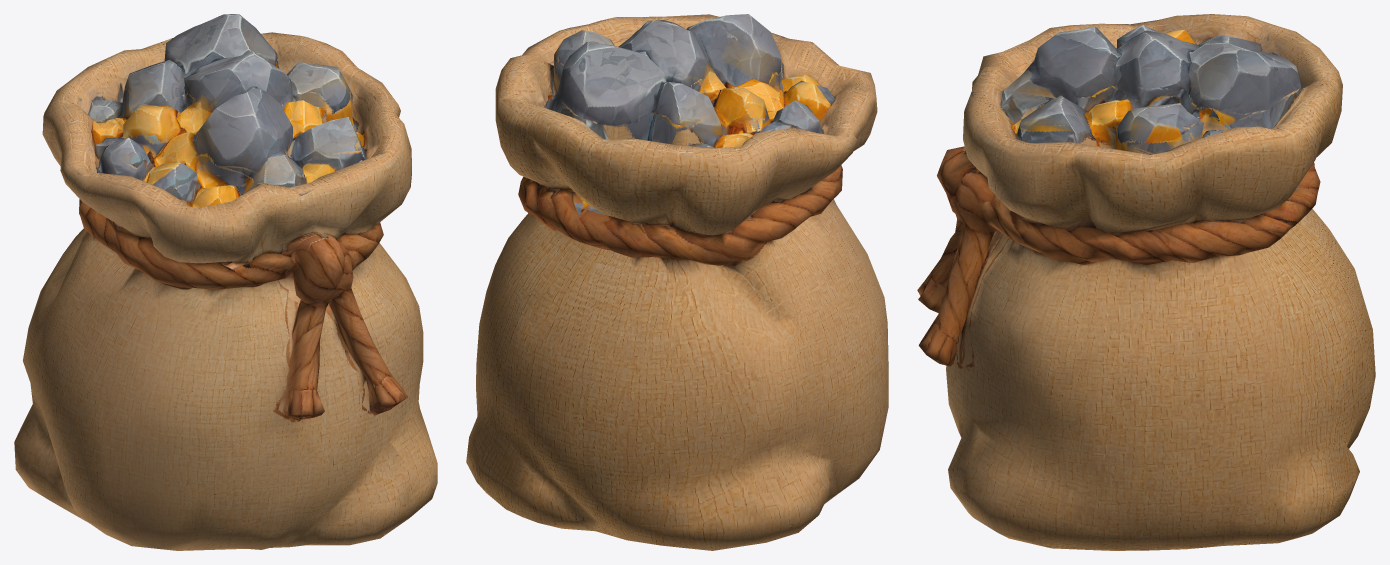
File: OreSack.glb
3 renders of one model, left to right at view 1: azimuth 30°, elevation 25°; view 2: azimuth 150°, elevation 25°; view 3: azimuth 270°, elevation 25°, orthographic. The views are drawn at different scales.
Parts seen in each view (by area): view 1: texture_mapping; view 2: texture_mapping; view 3: texture_mapping.
Boxes of the visible parts, x1=… form: texture_mapping: x1=14, y1=14, x2=437, y2=550; texture_mapping: x1=466, y1=14, x2=888, y2=550; texture_mapping: x1=917, y1=14, x2=1375, y2=550.
Size of the model in its own units: 0.7987 by 1.01 by 0.8846.
Materials: 1 (1 with a texture image).
